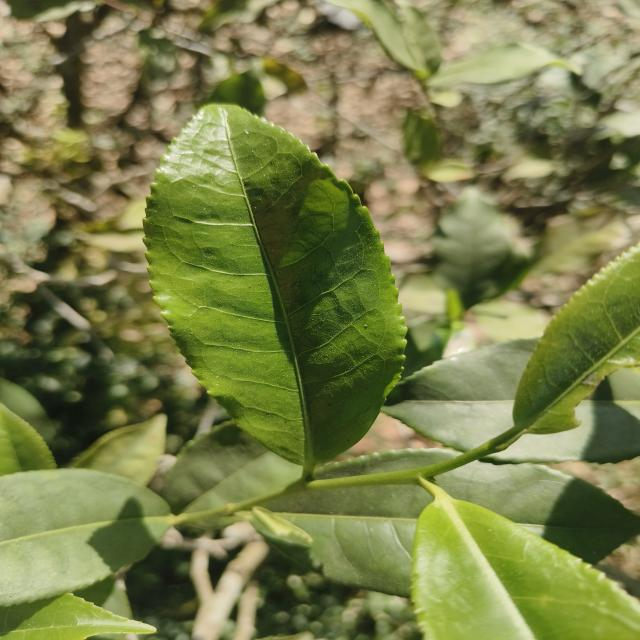Leaf: (145, 105, 405, 471), (411, 479, 640, 640), (513, 245, 640, 434), (0, 469, 170, 605), (440, 462, 640, 563), (266, 484, 432, 597), (381, 338, 539, 452), (489, 369, 640, 463), (161, 421, 302, 513), (432, 187, 513, 308), (328, 0, 441, 79), (68, 414, 167, 485), (429, 43, 569, 88), (531, 215, 631, 274), (321, 448, 453, 479), (0, 403, 56, 476), (202, 69, 266, 115), (402, 110, 441, 170)
